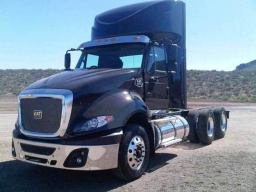truck: (10, 2, 240, 182)
